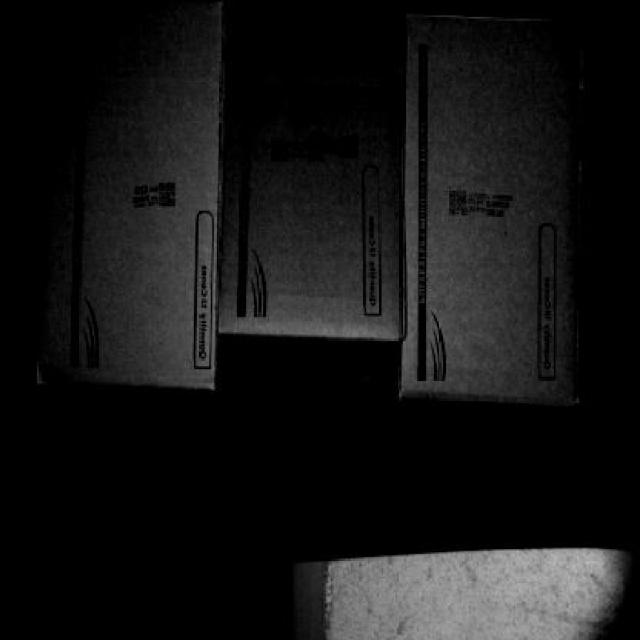cardboxes: (35, 4, 216, 393), (398, 6, 580, 392), (214, 14, 392, 337)
